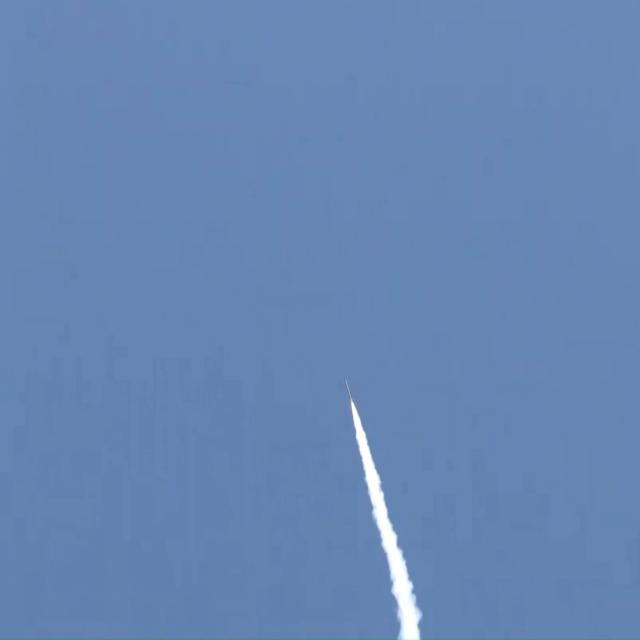Rocket: (345, 379, 354, 403)
